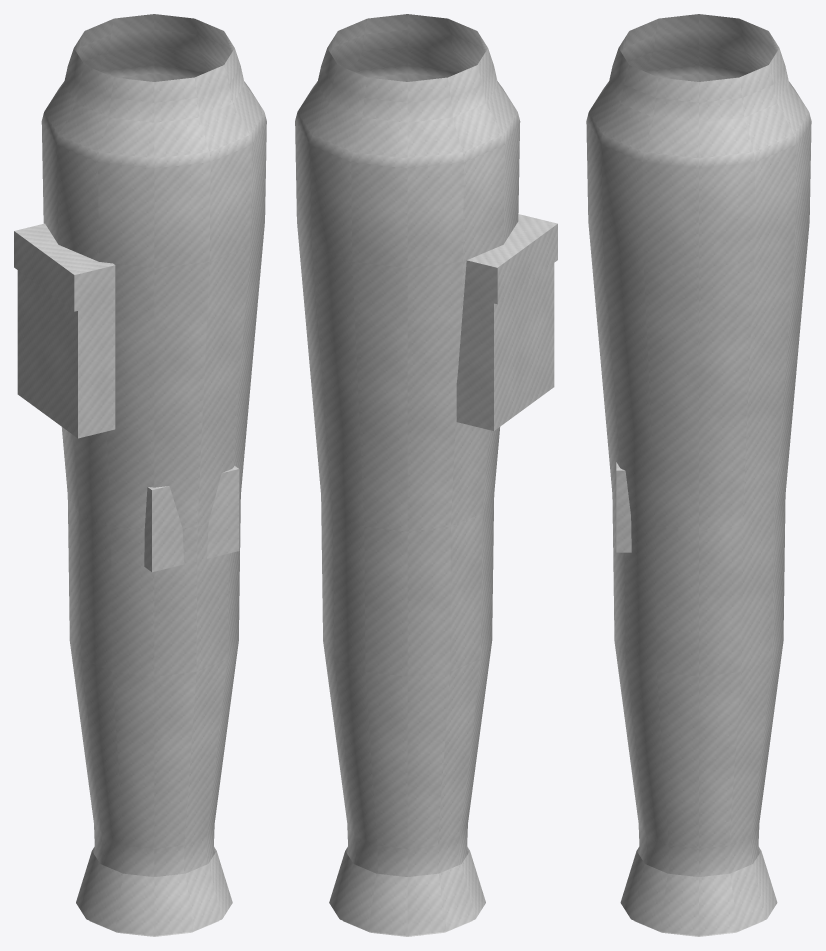
File: pants_cargo_leg_r.glb
3 views of the same model, side by side, from view 1: azimuth 30°, elevation 25°; view 2: azimuth 150°, elevation 25°; view 3: azimuth 270°, elevation 25° (orthographic).
Visible parts, largest first — view 1: pants_cargo_leg_r; view 2: pants_cargo_leg_r; view 3: pants_cargo_leg_r.
Boxes of the visible parts, left/top/right/bottom form: pants_cargo_leg_r: left=14, top=14, right=266, bottom=936; pants_cargo_leg_r: left=295, top=14, right=557, bottom=936; pants_cargo_leg_r: left=586, top=14, right=811, bottom=936.
Size of the model in its own units: 0.2438 by 0.94 by 0.2237.
1 material, 1 textured.
